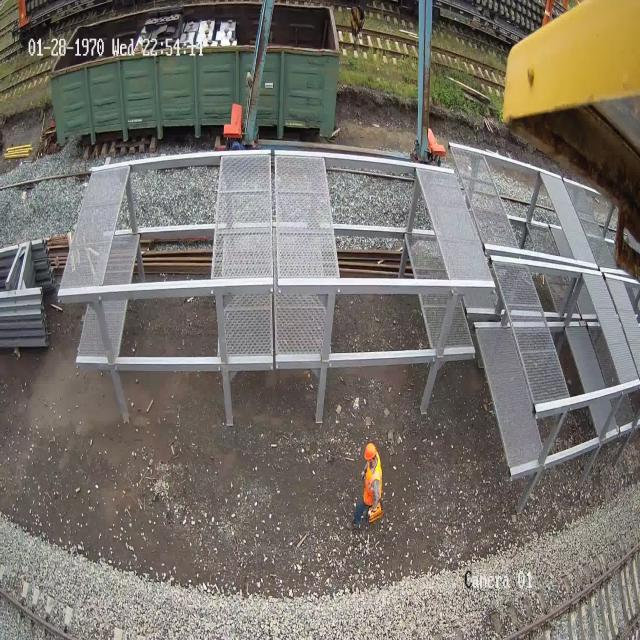Helmet: (364, 442, 377, 461)
Person: (352, 442, 382, 528)
